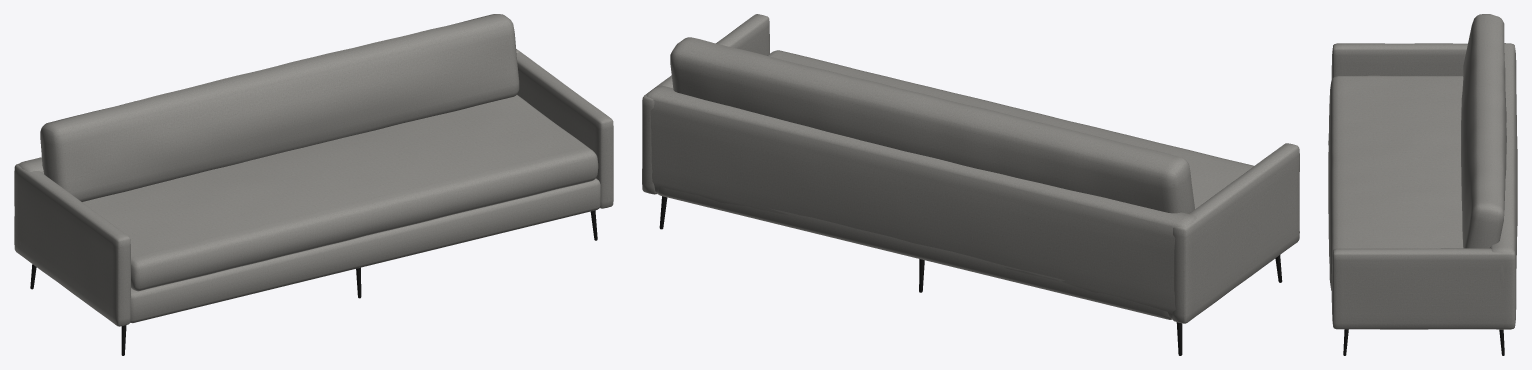
Rendered from sofa_brazo_fino_4p.glb.
3 renders of one model, left to right at view 1: azimuth 30°, elevation 25°; view 2: azimuth 150°, elevation 25°; view 3: azimuth 270°, elevation 25°, orthographic. The views are drawn at different scales.
Parts seen in each view (by area): view 1: sofa_brazo_fino_4p; view 2: sofa_brazo_fino_4p; view 3: sofa_brazo_fino_4p.
Boxes of the visible parts, x1=… form: sofa_brazo_fino_4p: x1=14, y1=14, x2=613, y2=355; sofa_brazo_fino_4p: x1=642, y1=14, x2=1299, y2=355; sofa_brazo_fino_4p: x1=1328, y1=14, x2=1517, y2=355.
Bounding box in the file's own units: 2.4 × 0.7865 × 0.9109.
Materials: 2 (1 with a texture image).
